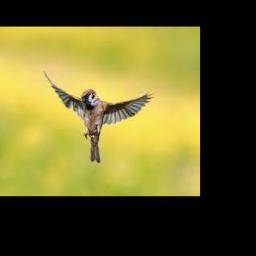Sparrow: (45, 70, 155, 163)
